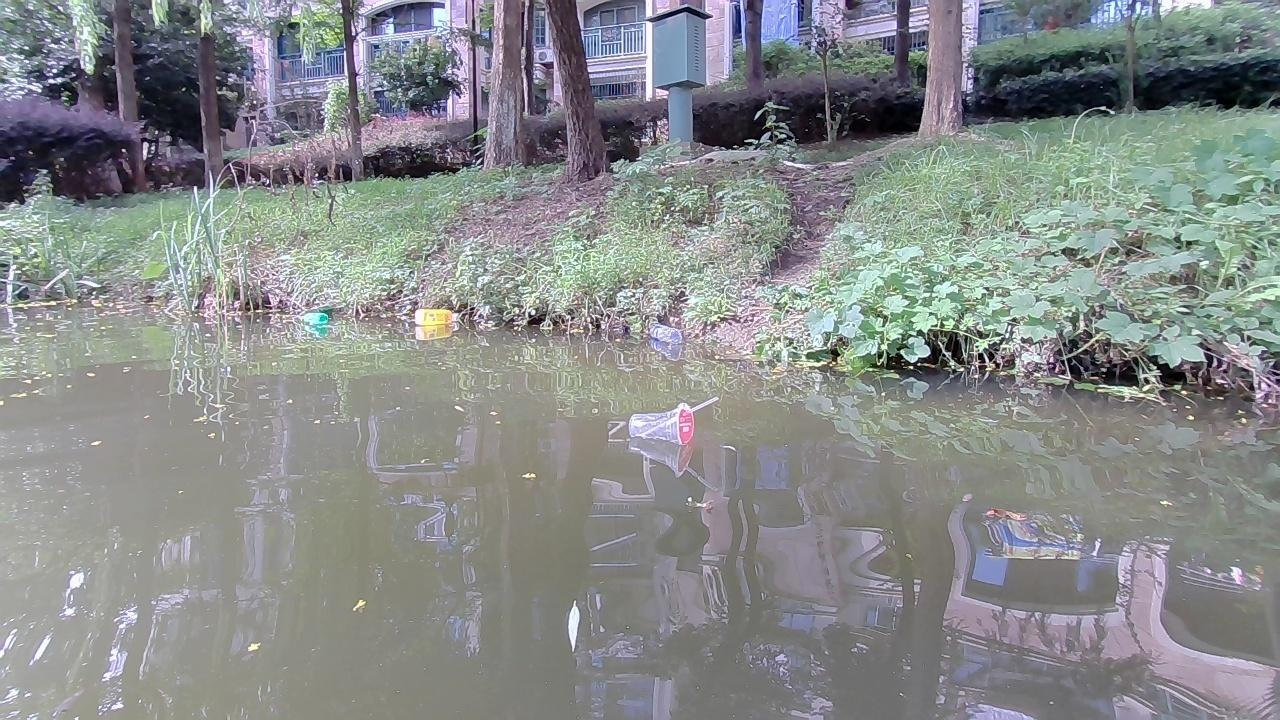bottle: (620, 404, 700, 448), (412, 306, 463, 327), (644, 323, 684, 346), (297, 310, 332, 328)
